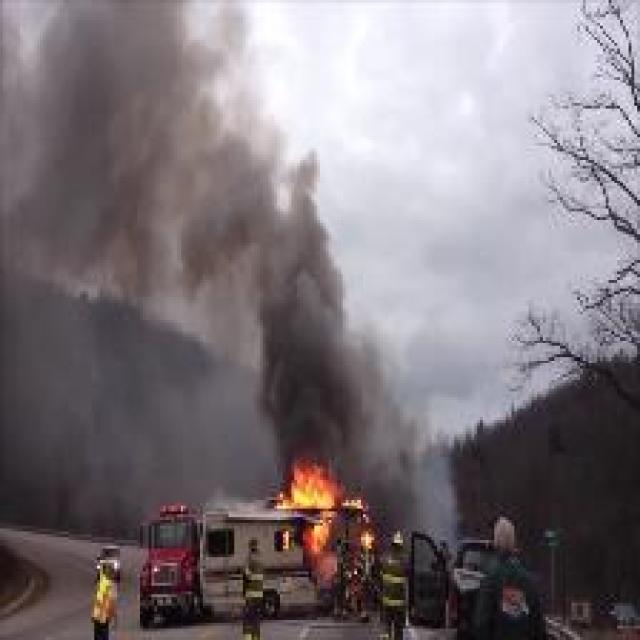fire: (267, 462, 372, 578)
smoke: (0, 9, 397, 454)
